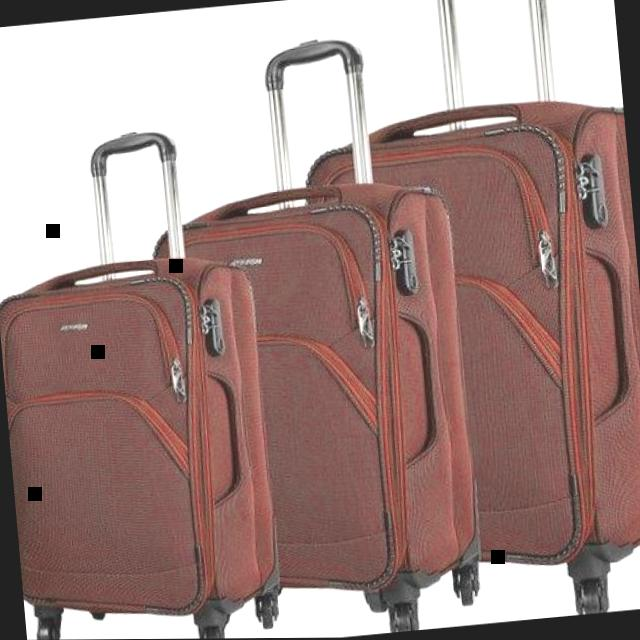luggage: (295, 83, 640, 597), (142, 166, 494, 628), (0, 241, 288, 637)
